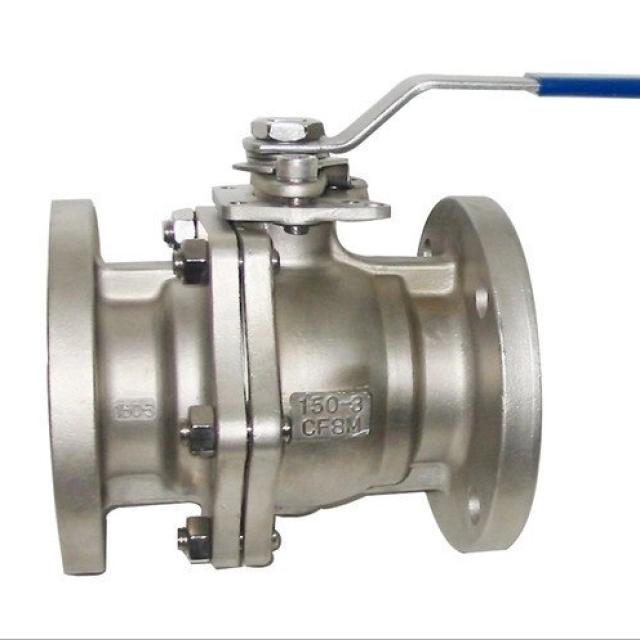Lever Handle Valve Threaded: (207, 56, 640, 229)
